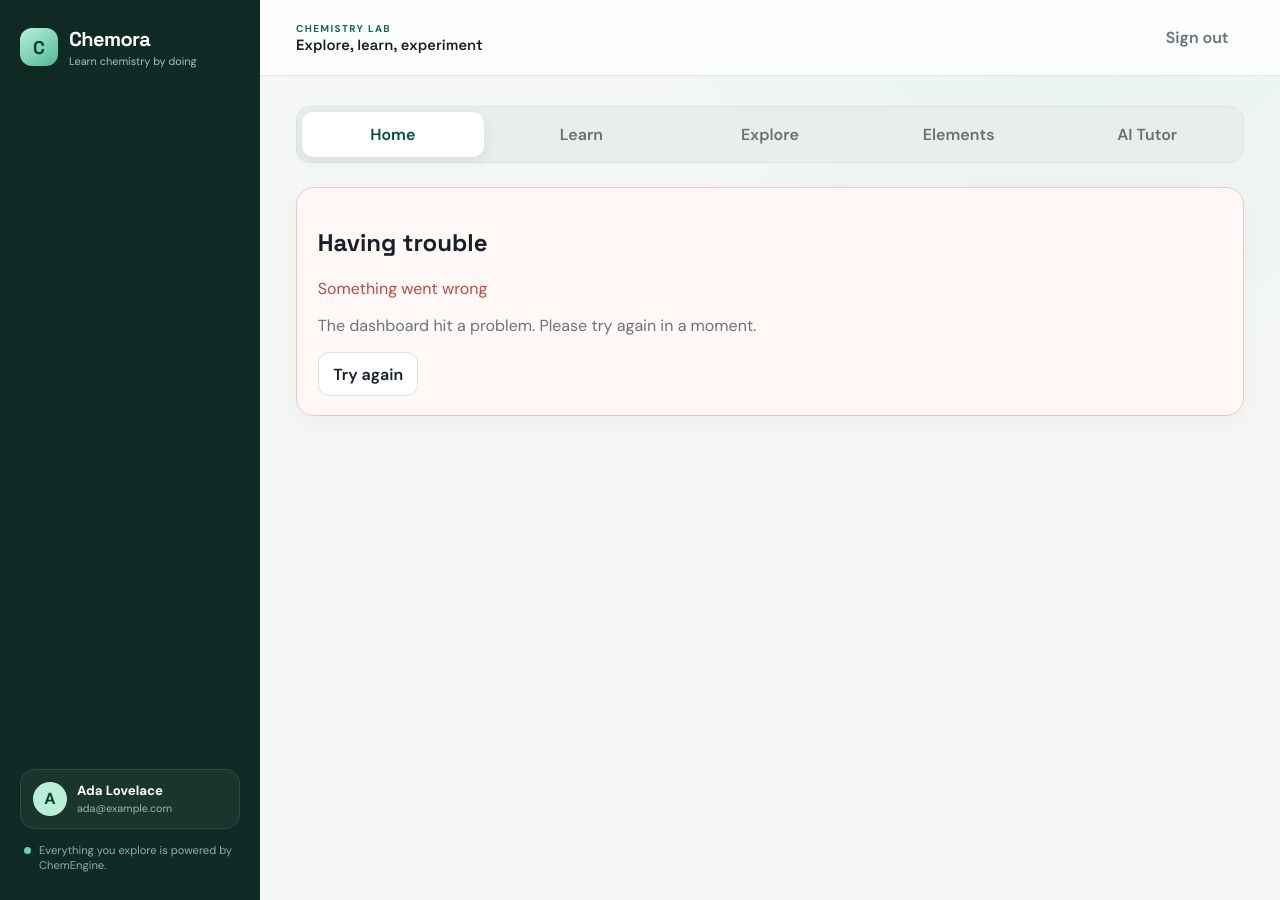
Test case: AI Chemistry Tutor (web) › surfaces mid-stream SSE error frames
The image size is (1280, 900).
Check: the button "Explore" is shown, box [679,112,861,157]
Click the button "AI Tutor": (1147, 135) [1056,112,1238,157]
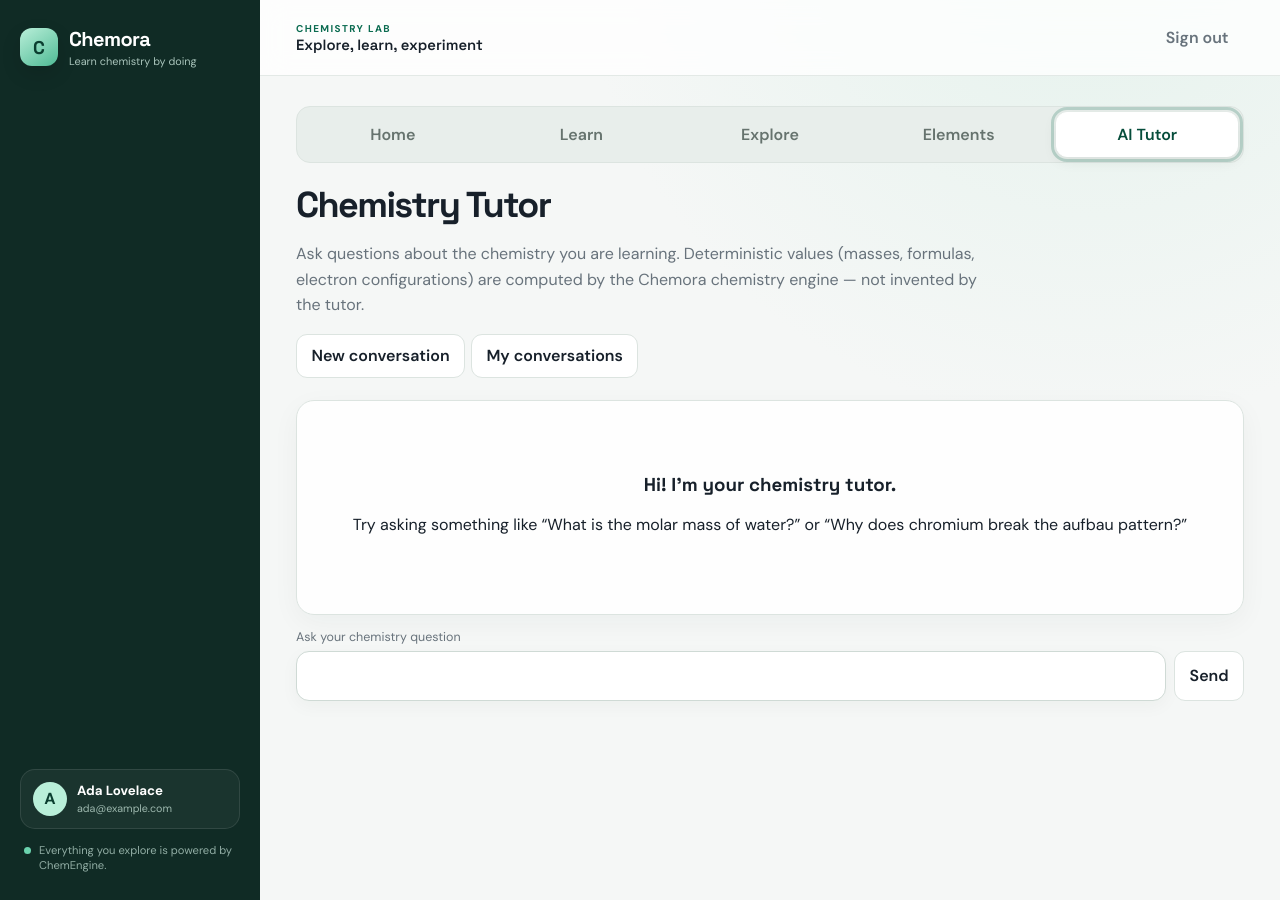
In the field labelled "Ask your chemistry question": (731, 676) [296,650,1166,701], type "hello"
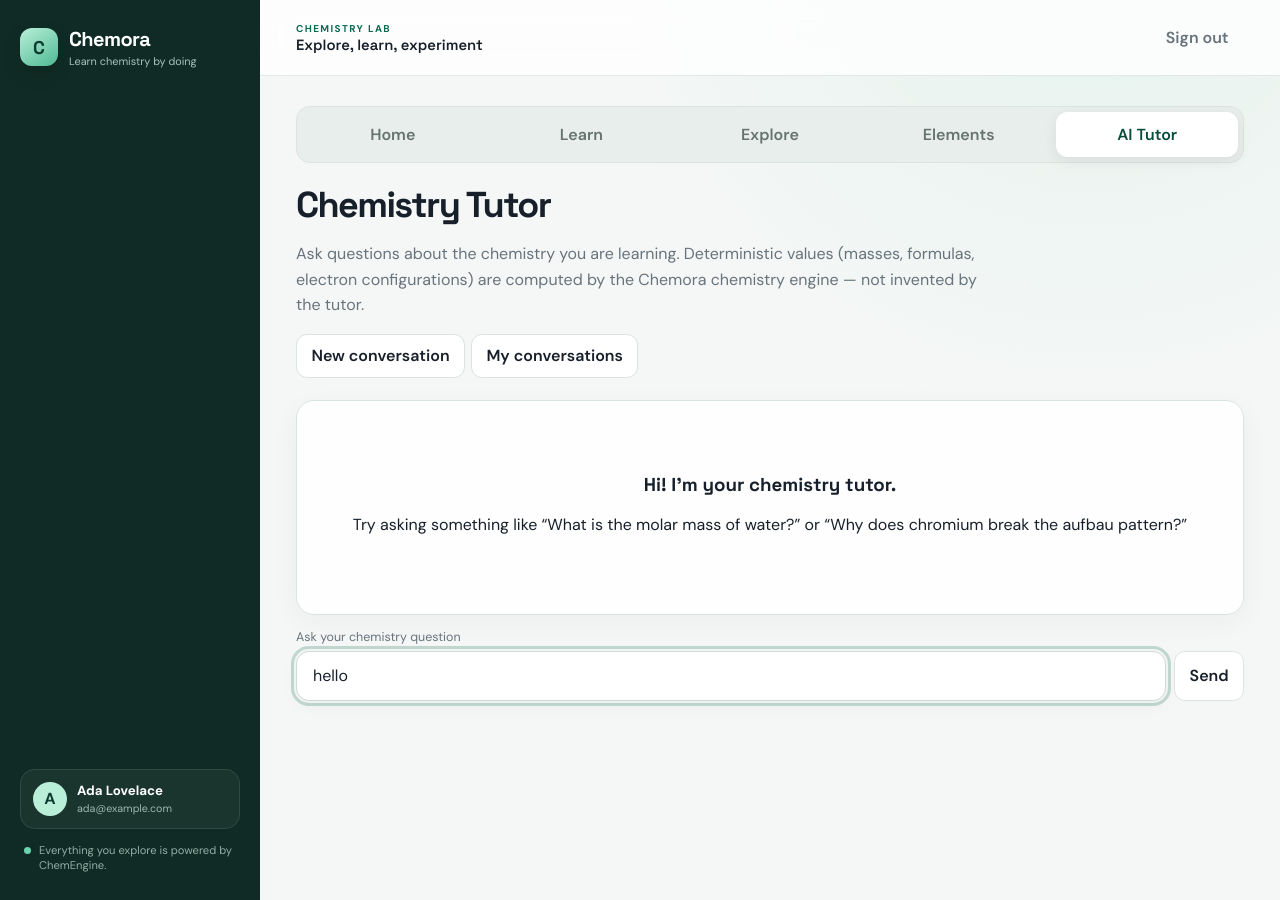
Click the button with test id "tutor-send": (1209, 676) [1174,650,1244,701]
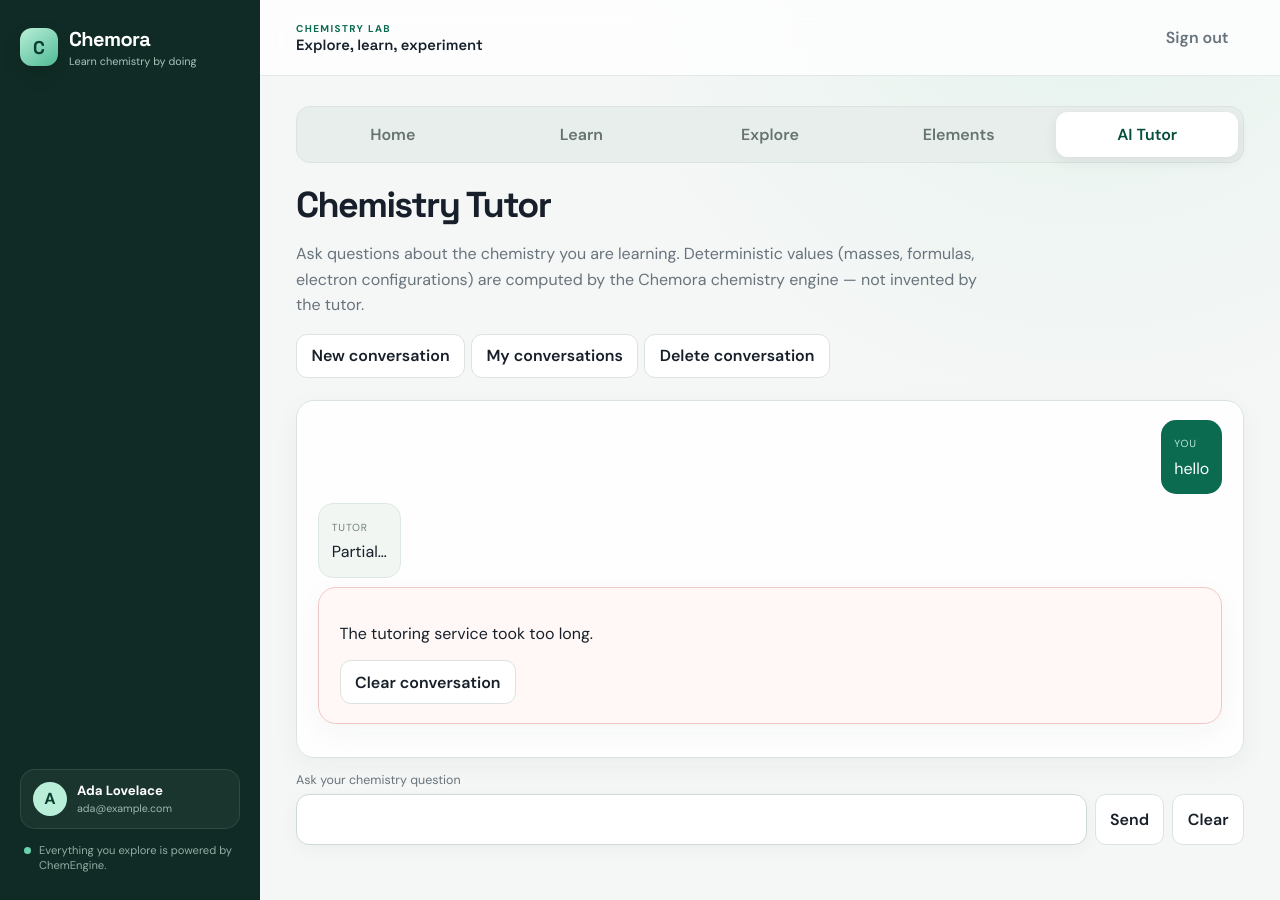
Check: the message "The tutoring service took too long. Clear conversation" is shown, box [318,587,1222,724]
Check: the message shows "took too long", box [340,623,593,644]
